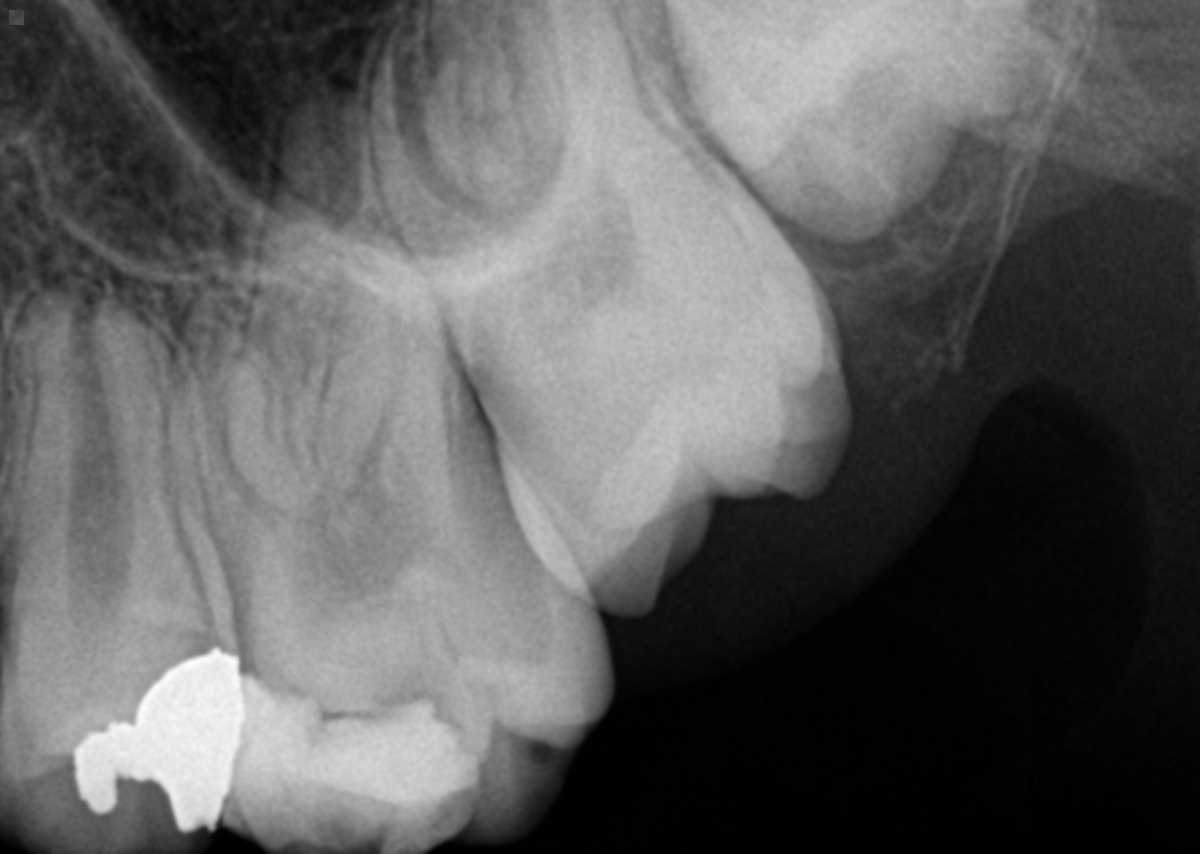Distal Canal: (361, 251, 403, 473)
Distal Root: (312, 237, 455, 519)
Main Canal: (66, 304, 128, 627)
Main Root: (3, 294, 228, 630)
Mesial Canal: (390, 98, 532, 269), (189, 330, 285, 522)
Mesial Root: (167, 276, 313, 625), (372, 11, 542, 305)
Palatal Root: (227, 94, 510, 576)
